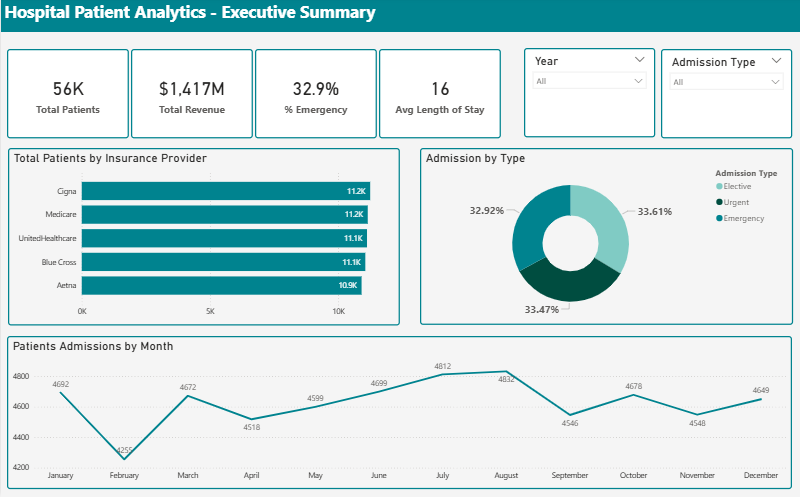

What the dashboard file says about the page in this screenshot:
{"tool":"powerbi","page":{"name":"Executive Summary","canvas":[1280,800],"ordinal":0},"visuals":[{"type":"textbox","box":[0,0,1279.7,55.7],"z":0},{"type":"card","fields":{"Values":["_Measures.Total Patients"]},"box":[10,82.6,194.9,142.8],"z":1000},{"type":"card","fields":{"Values":["_Measures.Total Revenue"]},"box":[208.2,82.6,194.9,142.8],"z":2000},{"type":"card","fields":{"Values":["_Measures.Avg Length of Stay"]},"box":[604.7,82.6,194.9,142.8],"z":3000},{"type":"card","fields":{"Values":["_Measures.% Emergency"]},"box":[406.4,82.6,194.9,142.8],"z":4000},{"type":"lineChart","title":"Patients Admissions by Month ","fields":{"Category":["DateTable.Month Name"],"Y":["_Measures.Total Patients"]},"box":[9.6,542.4,1256,244.8],"z":5000},{"type":"donutChart","title":"Admission by Type","fields":{"Category":["healthcare_dataset.Admission Type"],"Y":["_Measures.Total Patients"]},"box":[670.4,241.6,596.8,283.2],"z":6000},{"type":"clusteredBarChart","fields":{"Category":["healthcare_dataset.Insurance Provider"],"Y":["_Measures.Total Patients"]},"box":[11.8,241.9,626.6,283.9],"z":7000},{"type":"slicer","fields":{"Values":["DateTable.Year"]},"box":[837.1,82.2,210,142.9],"z":8000},{"type":"slicer","fields":{"Values":["healthcare_dataset.Admission Type"]},"box":[1056.5,82.9,210,142.8],"z":9000}]}

Visuals, with their boxes in screenshot pixels (x1, y1, x2, y2), scaled from the page's 1280x800 canvas onto the 800x497 screenshot:
textbox: box=[0, 0, 799, 35]
card - _Measures.Total Patients: box=[6, 51, 128, 140]
card - _Measures.Total Revenue: box=[130, 51, 252, 140]
card - _Measures.Avg Length of Stay: box=[378, 51, 500, 140]
card - _Measures.% Emergency: box=[254, 51, 376, 140]
"Patients Admissions by Month " lineChart: box=[6, 337, 791, 489]
"Admission by Type" donutChart: box=[419, 150, 792, 326]
clusteredBarChart - healthcare_dataset.Insurance Provider x _Measures.Total Patients: box=[7, 150, 399, 327]
slicer - DateTable.Year: box=[523, 51, 654, 140]
slicer - healthcare_dataset.Admission Type: box=[660, 52, 792, 140]
